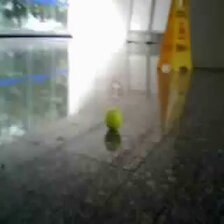tennis: (104, 109, 121, 127)
